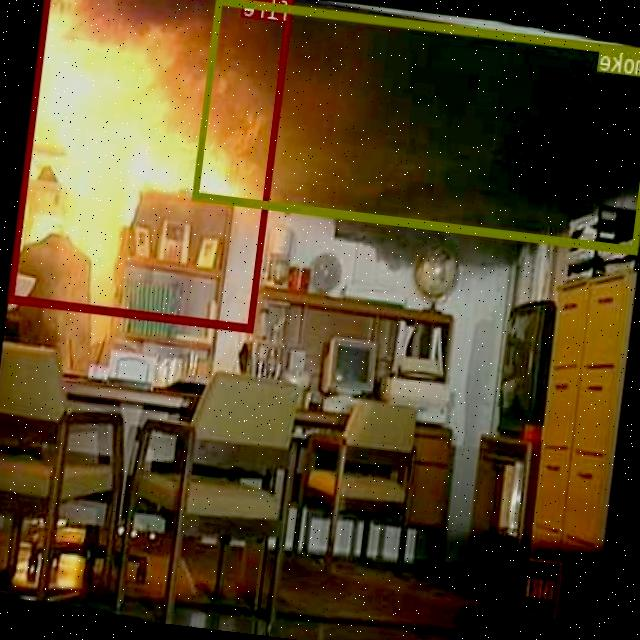fire: (9, 0, 295, 330)
smoke: (193, 0, 640, 252)
